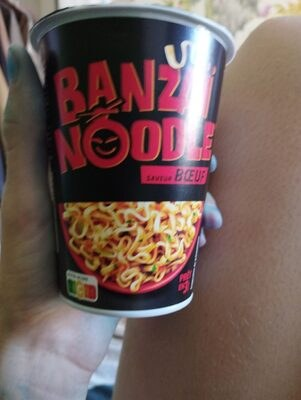Nouilles: (15, 20, 286, 380)
